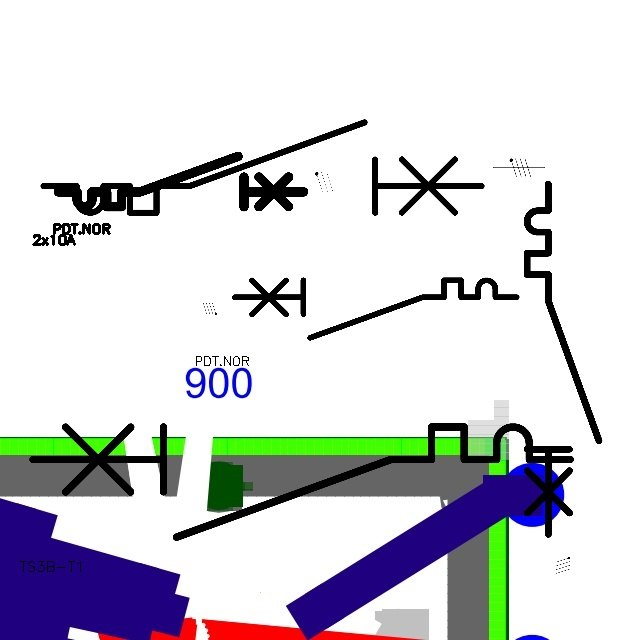interruptor_termomagnetico: (19, 413, 584, 551), (32, 111, 493, 224), (518, 175, 608, 543), (227, 273, 524, 345), (52, 150, 310, 213)
